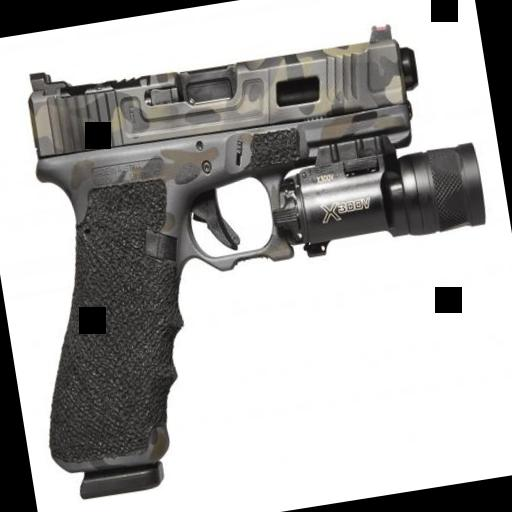Handgun: (0, 4, 512, 508)
